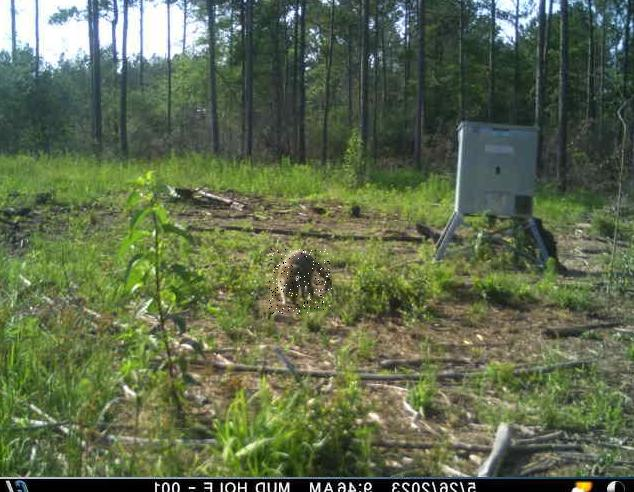Raccoon: (268, 250, 331, 315)
